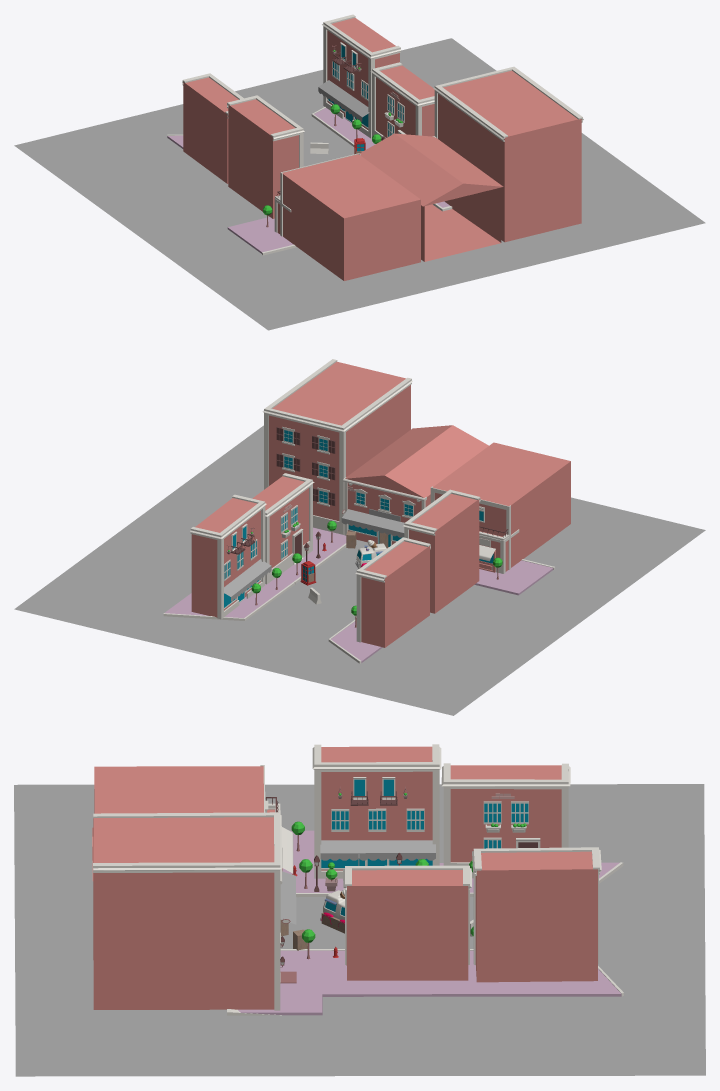
Rendered from City2 (2).fbx.
The picture shows the model from 3 angles, top to bottom: view 1: azimuth 30°, elevation 25°; view 2: azimuth 150°, elevation 25°; view 3: azimuth 270°, elevation 25°; orthographic projection. The views are drawn at different scales.
Parts seen in each view (by area): view 1: pPlane1, polySurface32, polySurface21, polySurface46, pCube5, pCube2, polySurface30, polySurface33, polySurface15, polySurface54, polySurface40, polySurface39 (+4 smaller); view 2: pPlane1, polySurface32, polySurface21, pCube5, polySurface30, polySurface15, polySurface46, polySurface33, polySurface40, polySurface54, polySurface39, polySurface55 (+6 smaller); view 3: pPlane1, polySurface32, polySurface33, polySurface54, polySurface15, polySurface21, polySurface46, polySurface30, polySurface40, polySurface49, polySurface31, pCube114 (+6 smaller).
Part boxes in pixels (<box>): pPlane1: <box>14,38,705,330</box>; polySurface32: <box>438,70,581,242</box>; polySurface21: <box>277,154,420,280</box>; polySurface46: <box>228,99,298,218</box>; pCube5: <box>360,133,503,206</box>; pCube2: <box>421,187,501,261</box>; polySurface30: <box>183,77,238,183</box>; polySurface33: <box>327,18,399,129</box>; polySurface15: <box>167,107,452,255</box>; polySurface54: <box>376,65,434,137</box>; polySurface40: <box>433,66,583,141</box>; polySurface39: <box>322,14,401,138</box>; pPlane1: <box>14,425,705,715</box>; polySurface32: <box>269,361,410,520</box>; polySurface21: <box>433,442,570,571</box>; pCube5: <box>345,425,488,497</box>; polySurface30: <box>361,541,429,647</box>; polySurface15: <box>163,527,555,663</box>; polySurface46: <box>409,494,479,613</box>; polySurface33: <box>191,498,260,617</box>; polySurface40: <box>262,359,412,534</box>; polySurface54: <box>252,476,308,567</box>; polySurface39: <box>190,494,266,619</box>; polySurface55: <box>265,473,314,584</box>; pPlane1: <box>14,784,705,1076</box>; polySurface32: <box>93,817,274,1009</box>; polySurface33: <box>475,851,597,982</box>; polySurface54: <box>346,870,468,980</box>; polySurface15: <box>227,830,623,1015</box>; polySurface21: <box>94,766,274,813</box>; polySurface46: <box>321,746,432,870</box>; polySurface30: <box>450,765,561,862</box>; polySurface40: <box>93,812,281,1010</box>; polySurface49: <box>312,744,441,878</box>; polySurface31: <box>441,763,570,878</box>; pCube114: <box>320,840,435,860</box>.
Bounding box in the file's own units: 5724 × 1401 × 5724.
